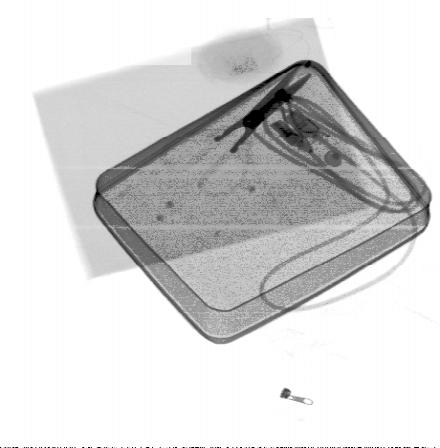Scissors: (162, 59, 315, 191)
